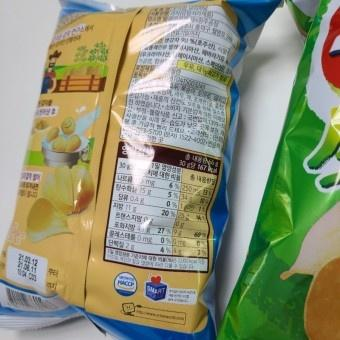snack: (0, 0, 287, 340)
